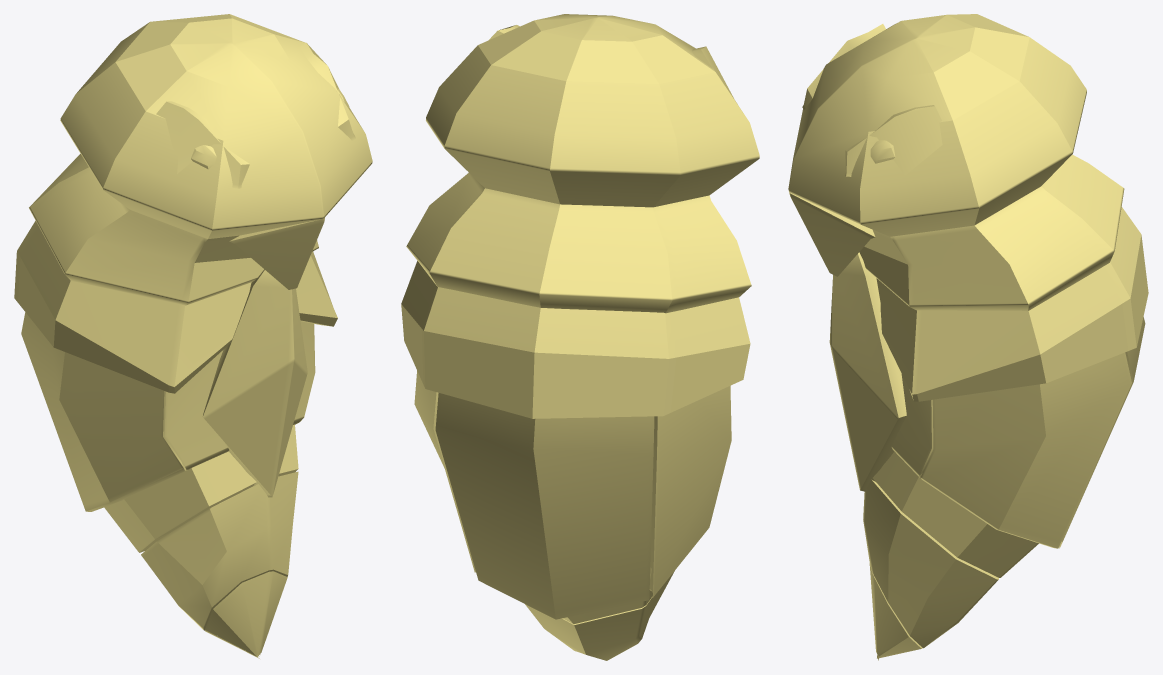
File: kakuna.glb
3 renders of one model, left to right at view 1: azimuth 30°, elevation 25°; view 2: azimuth 150°, elevation 25°; view 3: azimuth 270°, elevation 25°, orthographic. The views are drawn at different scales.
Parts seen in each view (by area): view 1: Node; view 2: Node; view 3: Node.
Part boxes in pixels (x1,y1,x2,y2): Node: [14, 14, 372, 658]; Node: [401, 14, 759, 660]; Node: [788, 14, 1148, 660].
Bounding box in the file's own units: 4.62 × 9.33 × 4.9.
